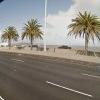Palm tree: (4, 14, 48, 51)
